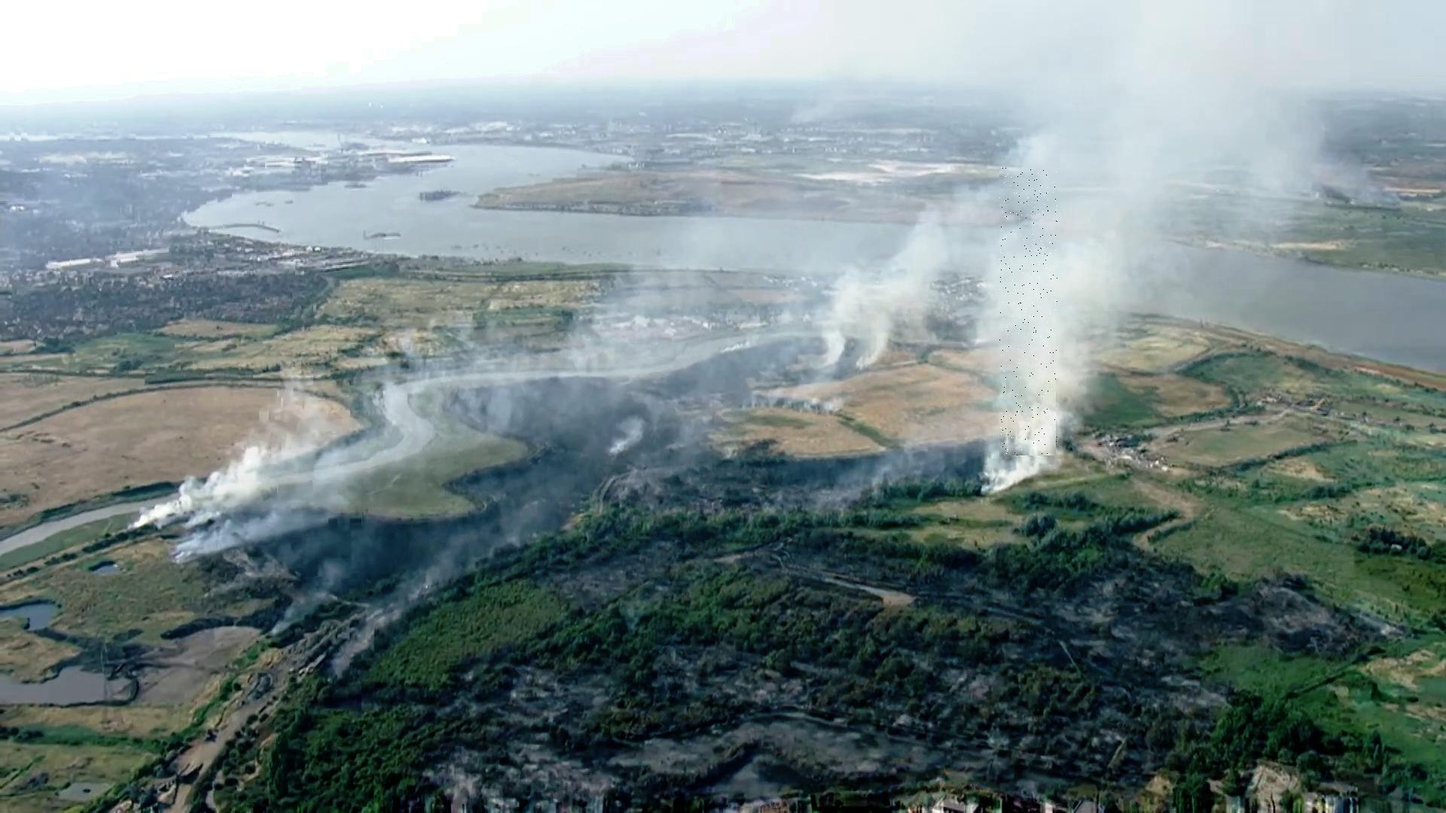smoke: (1000, 168, 1058, 458)
